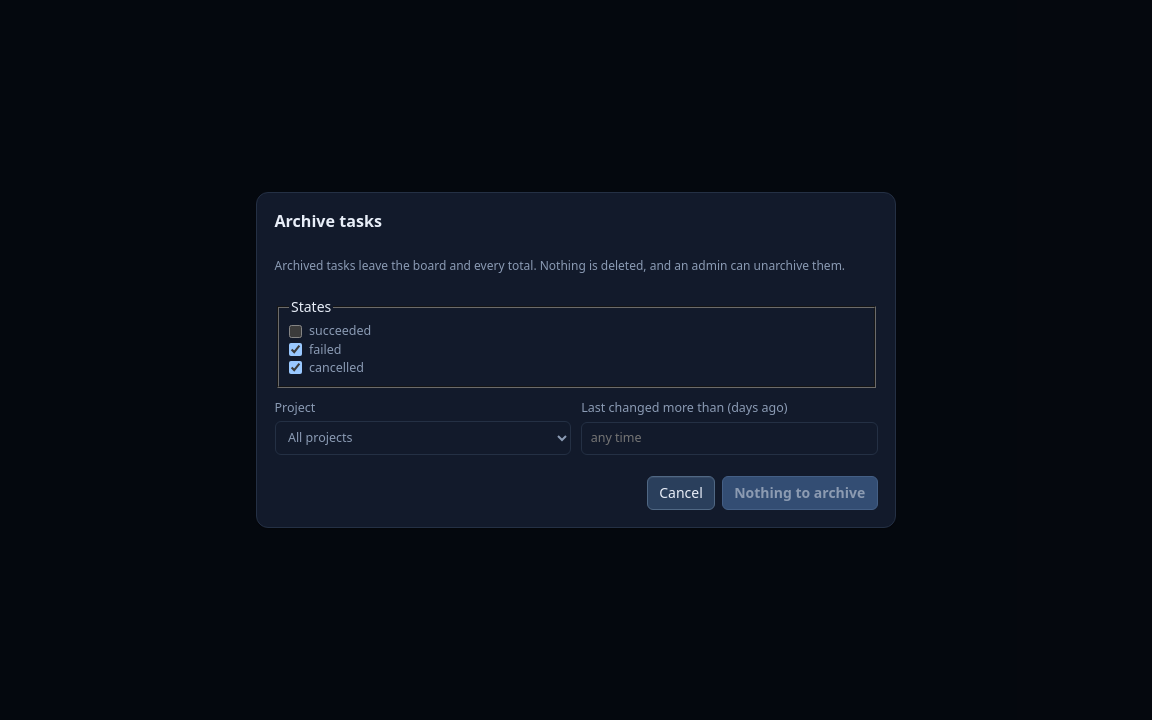
Test: ArchiveTasks › recounts when the criteria change and cannot archive an empty selection
This screenshot has width=1152, height=720.
Expected: the button "Nothing to archive" is disabled, [722,476,878,510]
What coordinates should you click on to do the following:
click the checkbox labelled "succeeded"
I would click on:
 (296, 332)
Its box is [289,325,302,338].
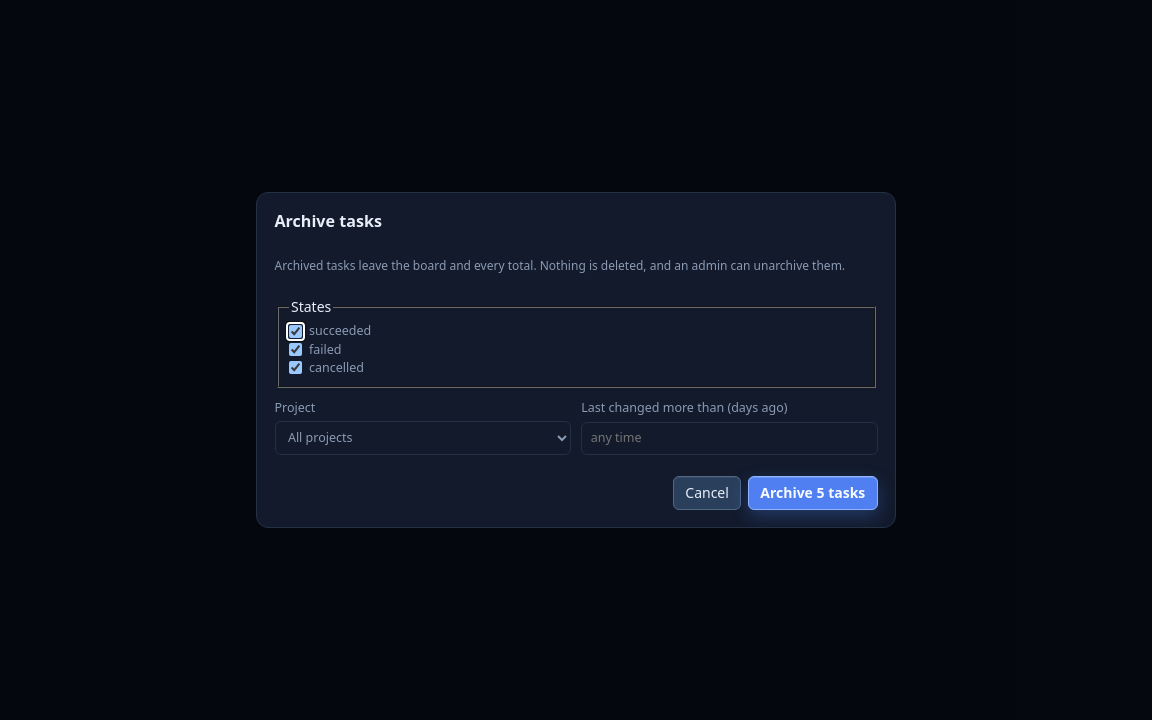
Expected: the button "Archive 5 tasks" is shown, [748,476,878,510]
